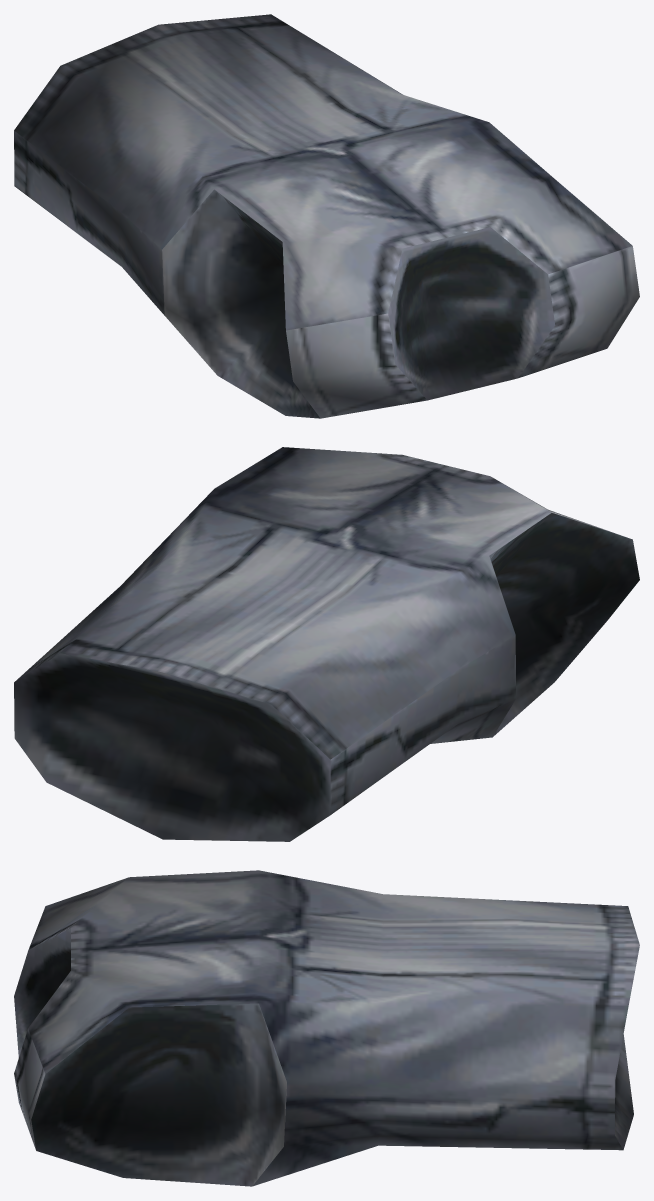
Rendered from vest.glb.
3 renders of one model, top to bottom at view 1: azimuth 30°, elevation 25°; view 2: azimuth 150°, elevation 25°; view 3: azimuth 270°, elevation 25°, orthographic.
Visible parts, largest first — view 1: Box01; view 2: Box01; view 3: Box01.
Boxes of the visible parts, x1,y1,x2,y2 form: Box01: (14,14,639,418); Box01: (14,447,639,841); Box01: (14,870,639,1186).
Bounding box in the file's own units: 19.53 × 9.72 × 30.11.
1 material, 1 textured.
